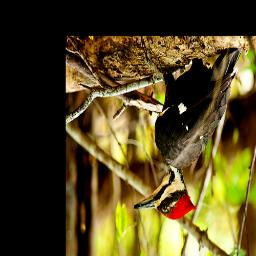Woodpecker: (132, 47, 240, 219)
